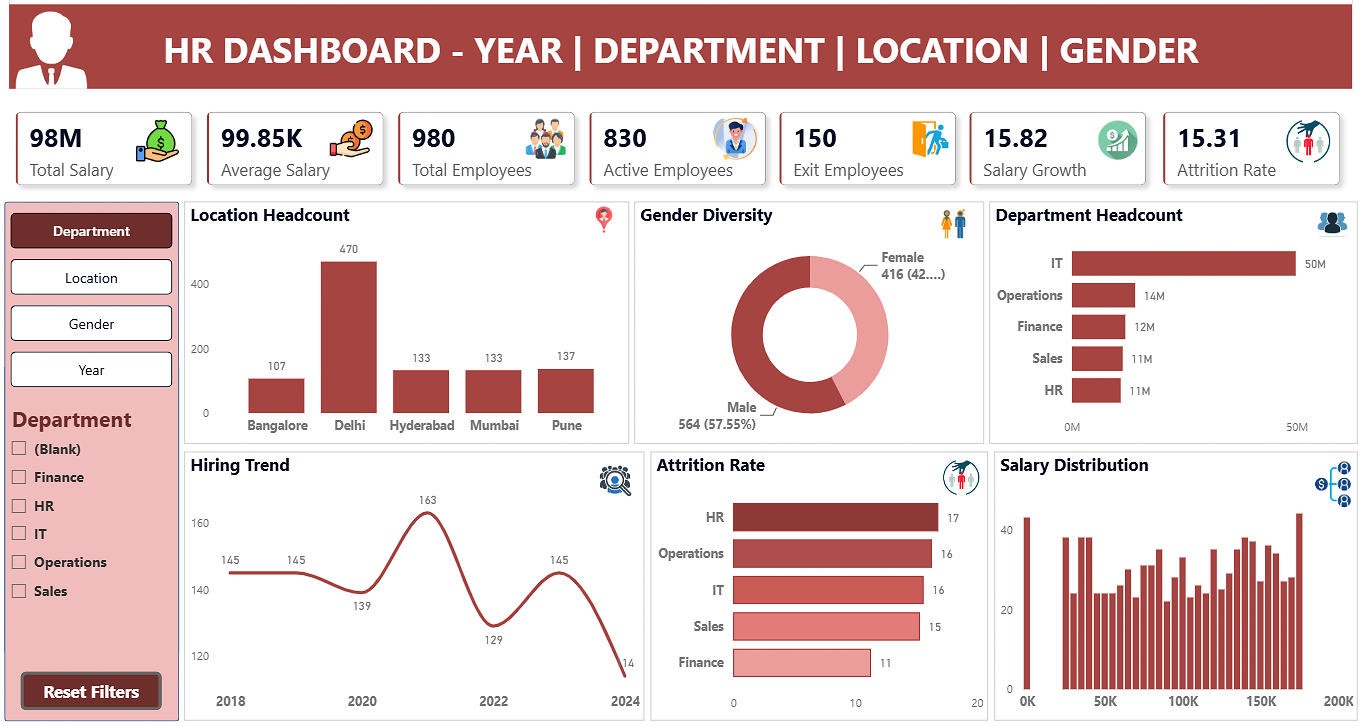

The dashboard page shown, as its layout file describes it:
{"tool":"powerbi","page":{"name":"Dashboard","canvas":[1300,700],"ordinal":1},"visuals":[{"type":"cardVisual","fields":{"Data":["Employee_Master.Total Salary"]},"box":[0,95.1,202.4,104.9],"z":0},{"type":"shape","box":[5.9,197.4,166.4,494.6],"z":1000},{"type":"cardVisual","fields":{"Data":["Employee_Master.Avg Salary"]},"box":[181.9,95.1,202.4,104.9],"z":2000},{"type":"cardVisual","fields":{"Data":["Employee_Master.Total Employees"]},"box":[363.8,95.1,202.4,104.9],"z":3000},{"type":"cardVisual","fields":{"Data":["Employee_Master.Active Emp"]},"box":[545.7,95.1,202.4,104.9],"z":4000},{"type":"cardVisual","fields":{"Data":["Employee_Master.Exit Emp"]},"box":[726.4,95.1,202.4,104.9],"z":5000},{"type":"cardVisual","fields":{"Data":["Employee_Master.Salary Growth"]},"box":[907.1,95.1,202.4,104.9],"z":6000},{"type":"cardVisual","fields":{"Data":["Employee_Master.Attrition Rate"]},"box":[1091.4,95.1,202.4,104.9],"z":7000},{"type":"slicer","fields":{"Values":["Dim_Department.Department"]},"box":[0,385.2,171.2,202.1],"z":8000},{"type":"bookmarkNavigator","box":[11.9,208.1,154.6,166.4],"z":11000},{"type":"columnChart","title":"Location Headcount","fields":{"Category":["Dim_Location.Location"],"Y":["Employee_Master.Total Employees"]},"box":[177.1,197.4,423.2,230.6],"z":12000},{"type":"donutChart","title":"Gender Diversity","fields":{"Category":["Dim_Gender.Gender"],"Y":["Employee_Master.Total Employees"]},"box":[605.1,197.4,332.9,230.6],"z":13000},{"type":"clusteredBarChart","title":"Department Headcount","fields":{"Category":["Dim_Department.Department"],"Y":["Employee_Master.Total Salary"]},"box":[942.8,197.4,350.7,230.6],"z":14000},{"type":"lineChart","title":"Hiring Trend","fields":{"Category":["Dim_Date.Year Hierarchy.Year","Dim_Date.Year Hierarchy.Quarter","Dim_Date.Year Hierarchy.Month","Dim_Date.Year Hierarchy.Date"],"Y":["CountNonNull(Employee_Master.EmployeeID)"]},"box":[177.1,435.1,437.5,255.6],"z":15000},{"type":"clusteredBarChart","title":"Attrition Rate","fields":{"Category":["Dim_Department.Department"],"Y":["Employee_Master.Attrition Rate"]},"box":[620.6,435.1,321,255.6],"z":16000},{"type":"clusteredColumnChart","title":"Salary Distribution","fields":{"Category":["Employee_Master.Salary BIns"],"Y":["CountNonNull(Employee_Master.EmployeeID)"]},"box":[947.5,435.1,346,255.6],"z":17000},{"type":"cardVisual","fields":{"Data":["Employee_Master.Dynamic Title"]},"box":[5.9,0,1287.5,95.1],"z":18000},{"type":"image","box":[122.5,114.1,58.3,51.1],"z":20000},{"type":"image","box":[306.7,111.8,58.3,51.1],"z":21000},{"type":"image","box":[489.8,108.2,61.8,59.4],"z":22000},{"type":"image","box":[670.5,110.6,61.8,54.7],"z":23000},{"type":"image","box":[857.2,114.1,58.3,52.3],"z":24000},{"type":"image","box":[1029.6,110.6,71.3,57.1],"z":25000},{"type":"image","box":[1215,115.3,63,49.9],"z":26000},{"type":"image","box":[552.8,197.4,47.6,34.5],"z":27000},{"type":"image","box":[876.2,197.4,65.4,42.8],"z":28000},{"type":"image","box":[1240,196.2,58.3,46.4],"z":29000},{"type":"image","box":[557.6,435.1,58.3,53.5],"z":30000},{"type":"image","box":[1240,435.1,59.4,61.8],"z":31000},{"type":"image","box":[886.9,438.7,58.3,42.8],"z":32000},{"type":"image","box":[0,11.9,101.1,83.2],"z":33000},{"type":"actionButton","box":[21.4,644.4,134.3,36.9],"z":34000}]}

Visuals, with their boxes in screenshot pixels (x1, y1, x2, y2), scaled from the page's 1300x700 canvas onto the 1361x727 screenshot:
cardVisual - Employee_Master.Total Salary: 0,99,212,208
shape: 6,205,180,719
cardVisual - Employee_Master.Avg Salary: 190,99,402,208
cardVisual - Employee_Master.Total Employees: 381,99,593,208
cardVisual - Employee_Master.Active Emp: 571,99,783,208
cardVisual - Employee_Master.Exit Emp: 760,99,972,208
cardVisual - Employee_Master.Salary Growth: 950,99,1162,208
cardVisual - Employee_Master.Attrition Rate: 1143,99,1355,208
slicer - Dim_Department.Department: 0,400,179,610
bookmarkNavigator: 12,216,174,389
"Location Headcount" columnChart: 185,205,628,445
"Gender Diversity" donutChart: 633,205,982,445
"Department Headcount" clusteredBarChart: 987,205,1354,445
"Hiring Trend" lineChart: 185,452,643,717
"Attrition Rate" clusteredBarChart: 650,452,986,717
"Salary Distribution" clusteredColumnChart: 992,452,1354,717
cardVisual - Employee_Master.Dynamic Title: 6,0,1354,99
image: 128,119,189,172
image: 321,116,382,169
image: 513,112,577,174
image: 702,115,767,172
image: 897,119,958,173
image: 1078,115,1153,174
image: 1272,120,1338,172
image: 579,205,629,241
image: 917,205,986,249
image: 1298,204,1359,252
image: 584,452,645,507
image: 1298,452,1360,516
image: 929,456,990,500
image: 0,12,106,99
actionButton: 22,669,163,708
